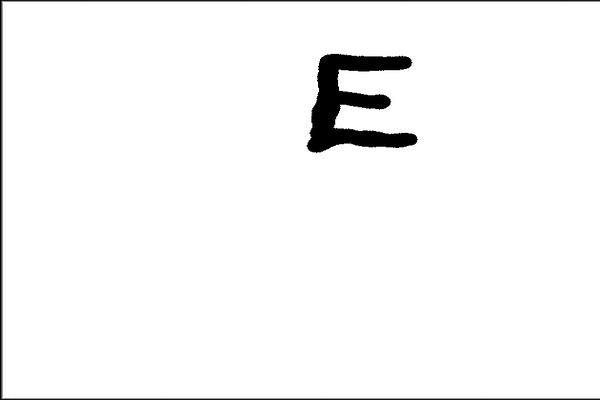E: (301, 50, 424, 157)
